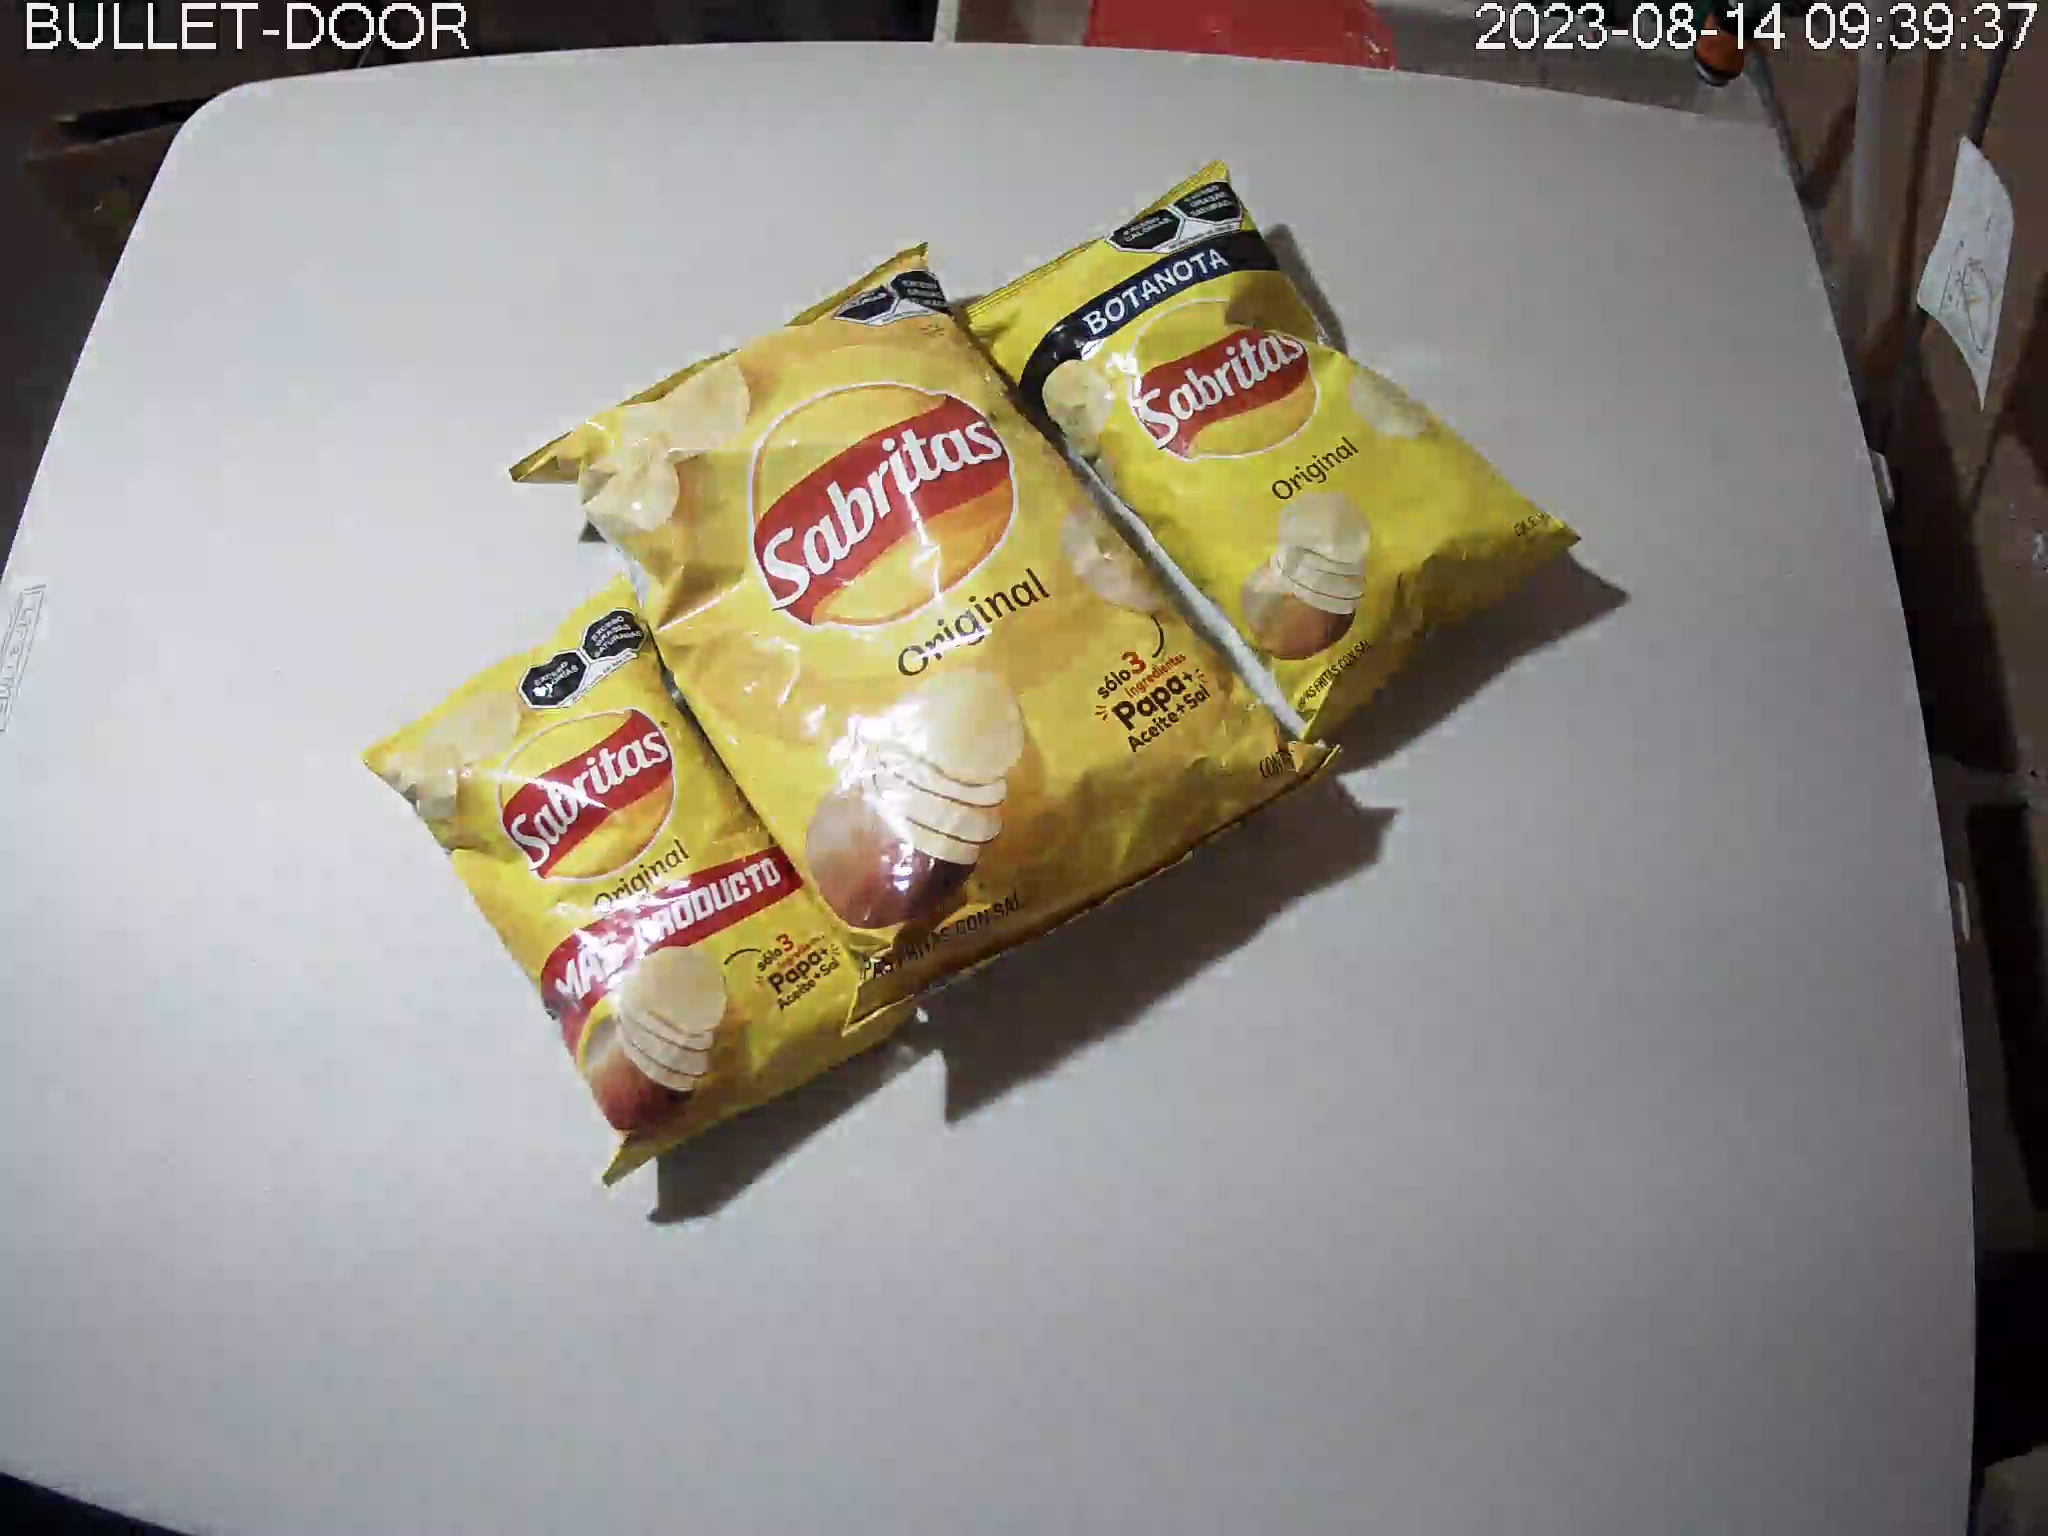Sabritas_160_F: (510, 244, 1329, 1025)
Sabritas_45_F: (363, 573, 921, 1189)
Sabritas_64_F: (956, 157, 1588, 741)
